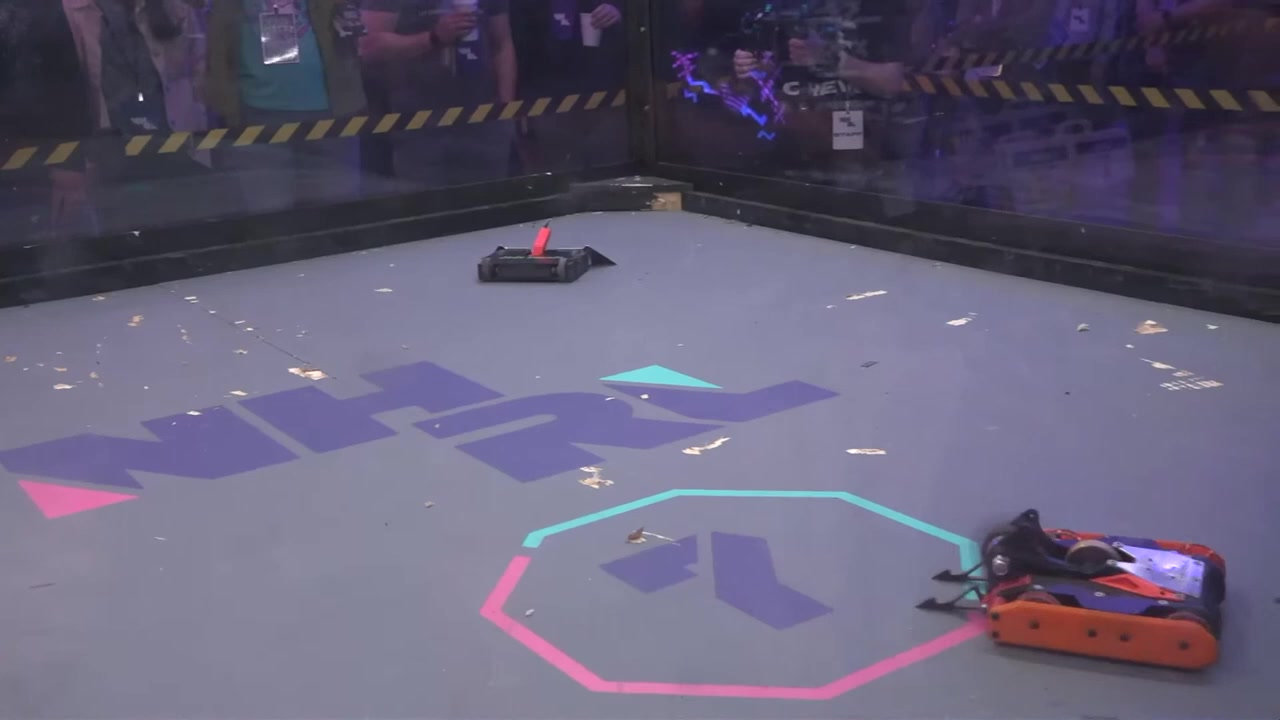combatbot: (921, 510, 1228, 671), (476, 226, 618, 288)
